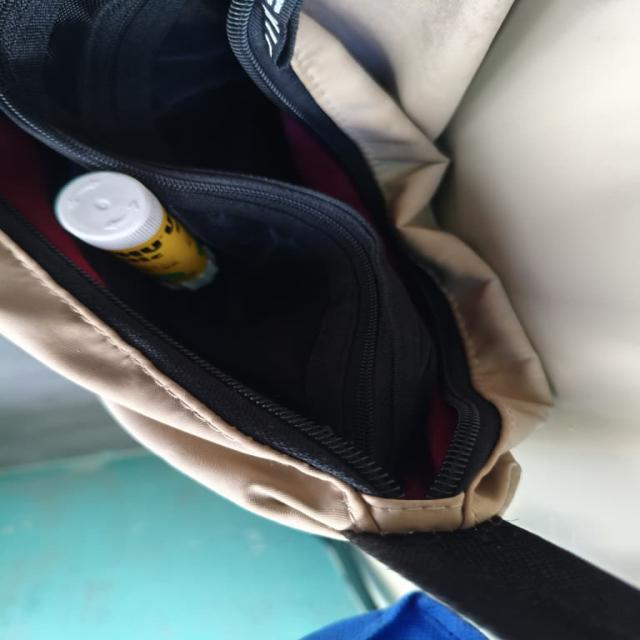glue: (55, 172, 214, 289)
